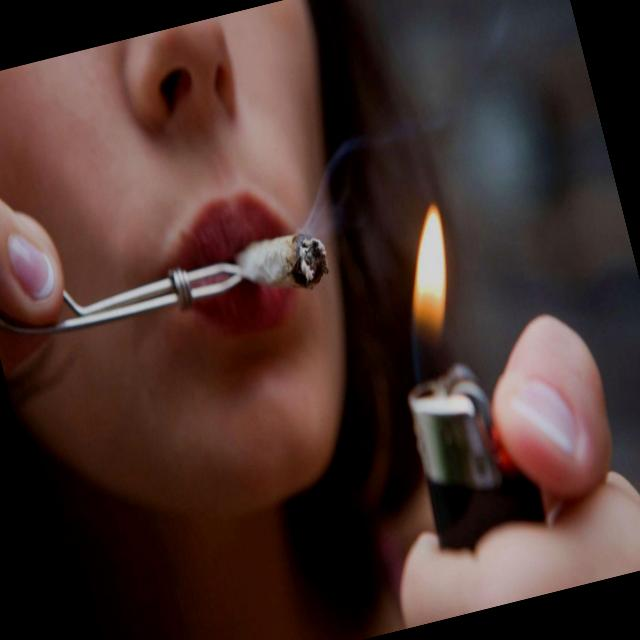cigarette: (228, 218, 342, 309)
